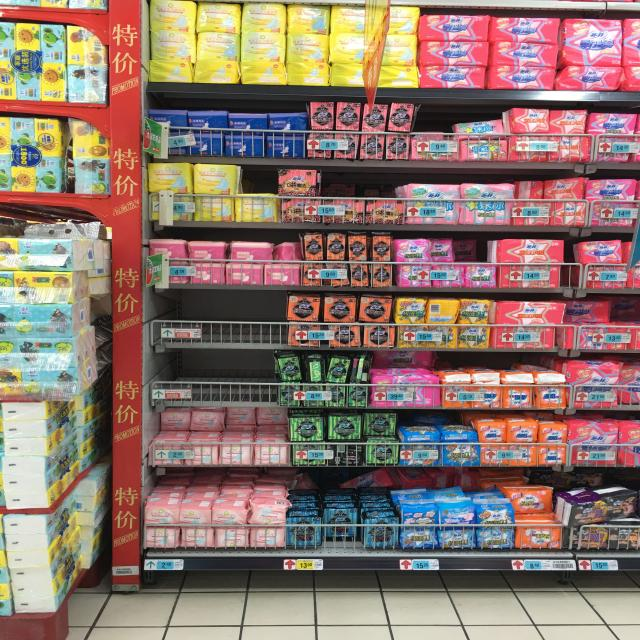void: (149, 293, 185, 350), (239, 349, 275, 402), (187, 293, 224, 343), (227, 292, 259, 342), (209, 350, 237, 405), (262, 292, 288, 344), (157, 351, 181, 401), (183, 352, 206, 399)
